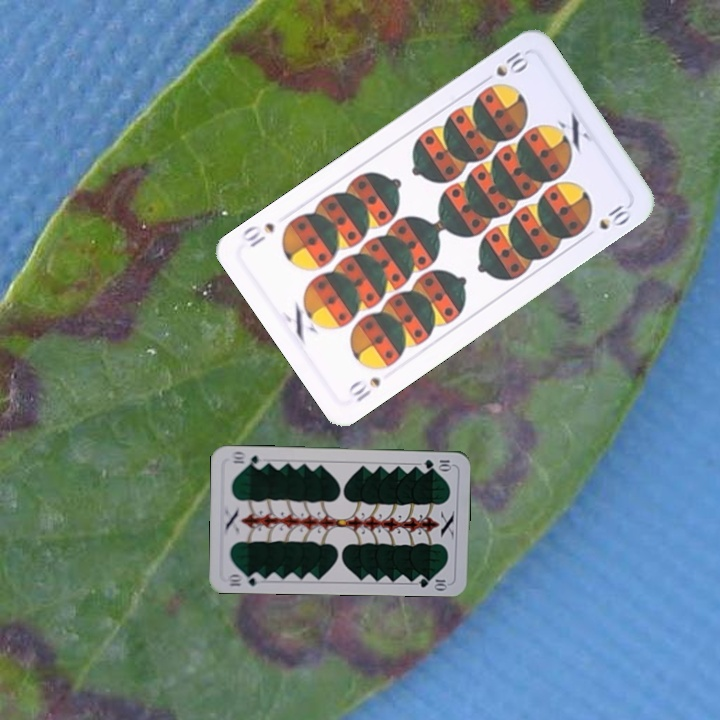G10: (224, 569, 264, 589), (420, 456, 454, 471)
S10: (477, 44, 532, 86), (343, 373, 383, 405)
